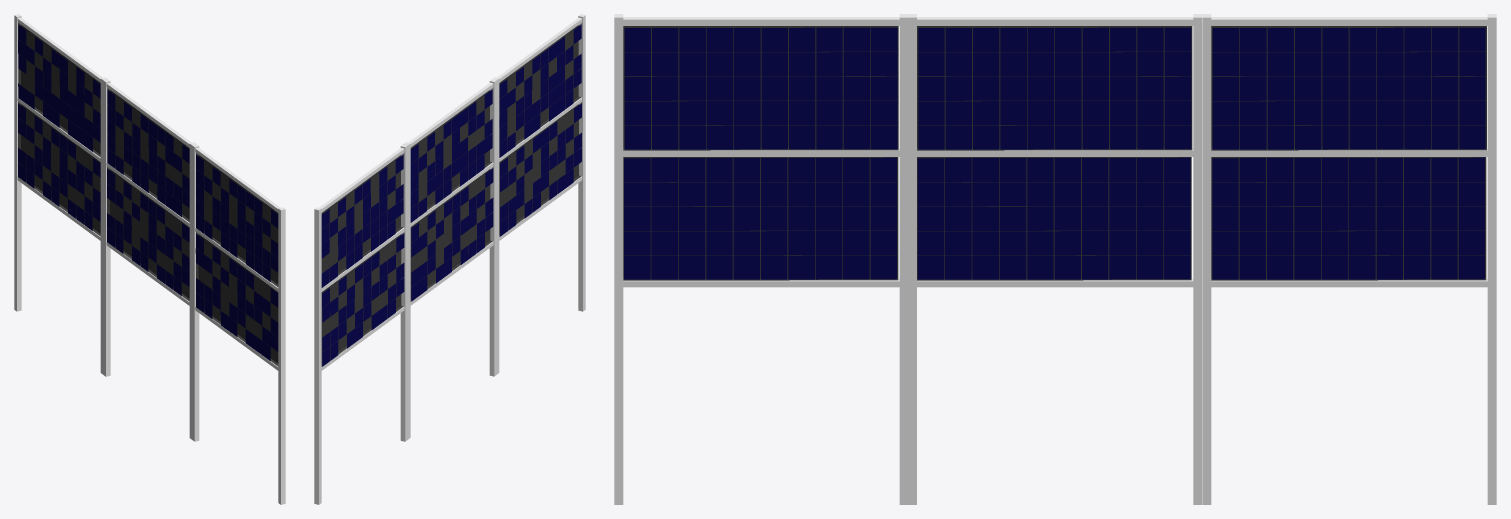
Rendered from w sun panel.glb.
The picture shows the model from 3 angles, left to right: view 1: azimuth 30°, elevation 25°; view 2: azimuth 150°, elevation 25°; view 3: azimuth 270°, elevation 25°; orthographic projection. The views are drawn at different scales.
Parts seen in each view (by area): view 1: 立方体.004, 立方体.002, 立方体.001; view 2: 立方体.002, 立方体.004, 立方体.001; view 3: 立方体.002, 立方体.004, 立方体.001.
Part boxes in pixels (left/top/right/bottom): 立方体.004: left=192, top=144, right=285, bottom=504; 立方体.002: left=14, top=14, right=107, bottom=374; 立方体.001: left=103, top=79, right=196, bottom=439; 立方体.002: left=314, top=144, right=407, bottom=504; 立方体.004: left=492, top=14, right=585, bottom=374; 立方体.001: left=403, top=79, right=496, bottom=439; 立方体.002: left=1202, top=14, right=1496, bottom=504; 立方体.004: left=614, top=14, right=908, bottom=504; 立方体.001: left=908, top=14, right=1201, bottom=504.
Size of the model in its own units: 0.16 by 9.61 by 15.77.
